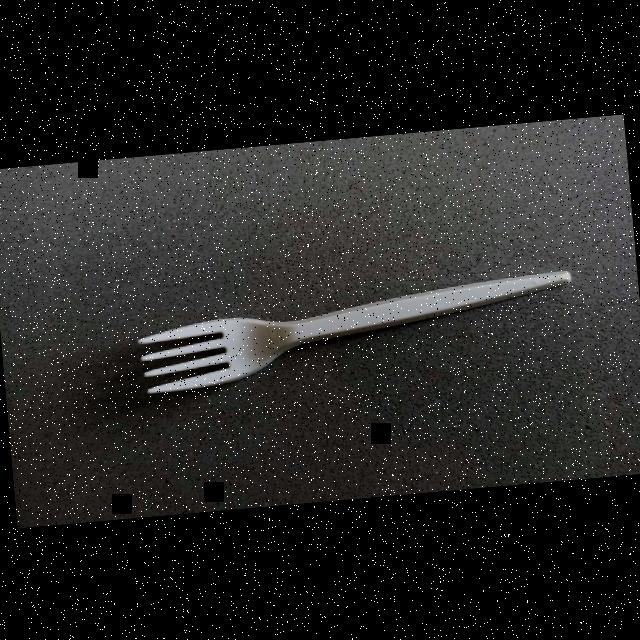plastic_cultery: (131, 253, 579, 404)
